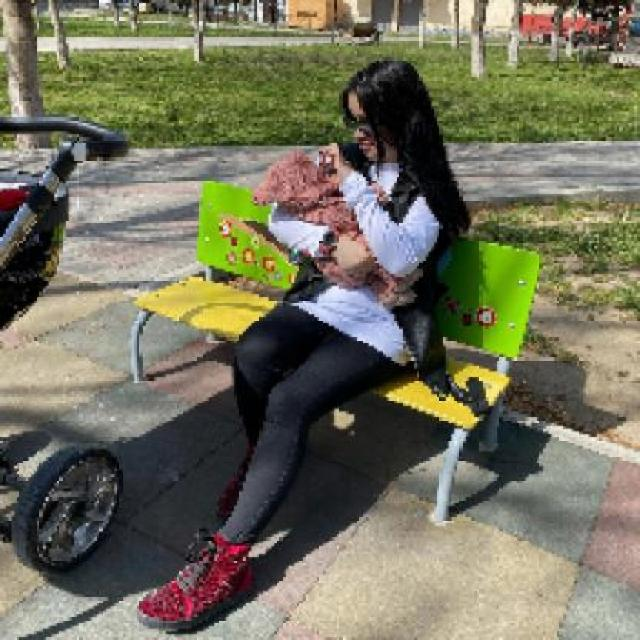child: (251, 144, 426, 310)
